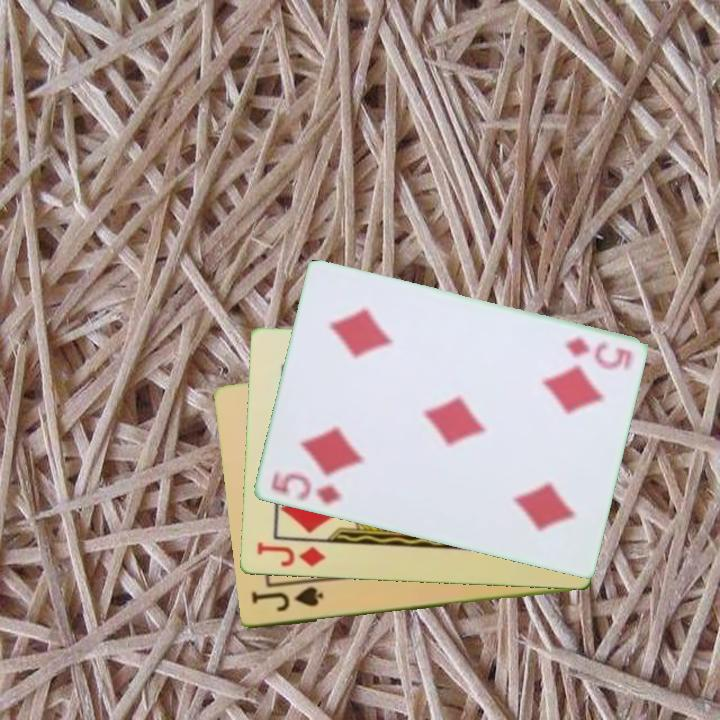5d: (267, 466, 344, 508), (561, 333, 634, 371)
Jd: (253, 539, 328, 570)
Js: (248, 585, 326, 615)
